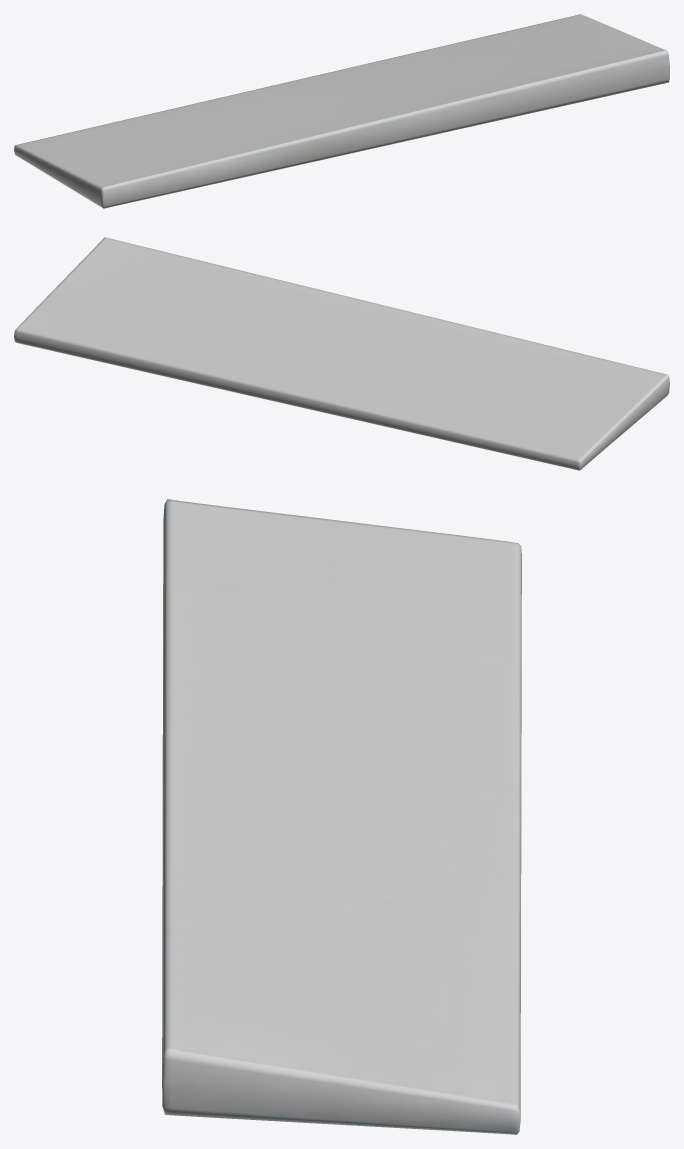
File: CessnaAilron.obj
3 views of the same model, one above another, from view 1: azimuth 30°, elevation 25°; view 2: azimuth 150°, elevation 25°; view 3: azimuth 270°, elevation 25° (orthographic). The views are drawn at different scales.
Parts seen in each view (by area): view 1: A23DOBJ_001_Mesh.013; view 2: A23DOBJ_001_Mesh.013; view 3: A23DOBJ_001_Mesh.013.
Part boxes in pixels (left/top/right/bottom): A23DOBJ_001_Mesh.013: left=14, top=14, right=669, bottom=208; A23DOBJ_001_Mesh.013: left=14, top=237, right=669, bottom=470; A23DOBJ_001_Mesh.013: left=162, top=499, right=521, bottom=1134.
Size of the model in its own units: 1.5 by 0.106 by 0.412.
Materials: 1 (1 with a texture image).
